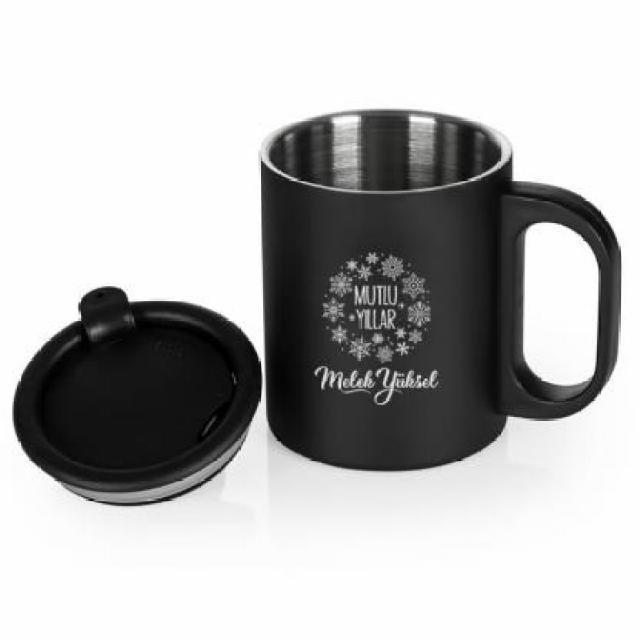taza: (258, 104, 620, 472)
